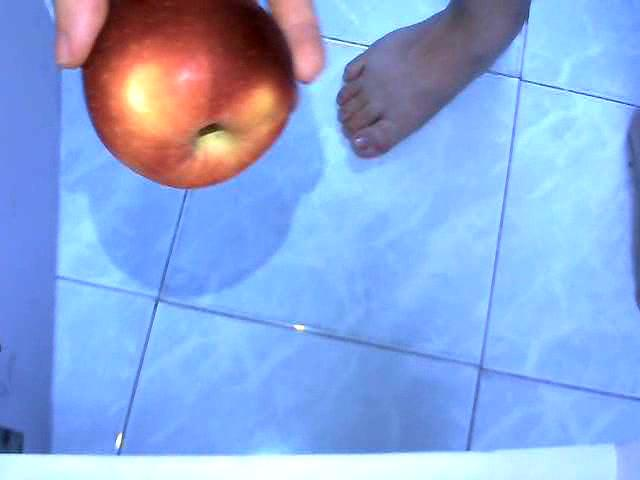apple: (81, 0, 298, 191)
